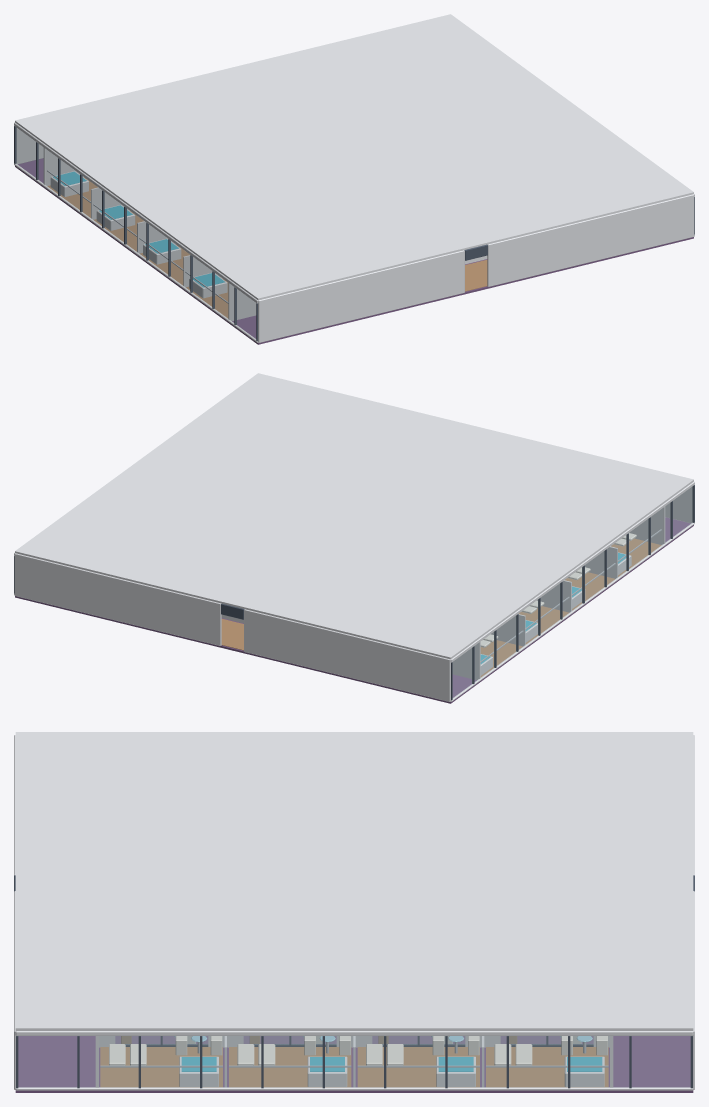
The model's file is cabin-deck-seven.glb.
3 renders of one model, top to bottom at view 1: azimuth 30°, elevation 25°; view 2: azimuth 150°, elevation 25°; view 3: azimuth 270°, elevation 25°, orthographic. The views are drawn at different scales.
Parts seen in each view (by area): view 1: CM_BULKHEAD, CM_GLASS_CLEAR, CM_WOOD, CM_CARPET, CM_TRIM, CM_WATER; view 2: CM_BULKHEAD, CM_GLASS_CLEAR, CM_WOOD, CM_CARPET, CM_TRIM, CM_CANVAS; view 3: CM_BULKHEAD, CM_GLASS_CLEAR, CM_CARPET, CM_WOOD, CM_CANVAS, CM_TRIM, CM_WATER, CM_STEEL.
Boxes of the visible parts, x1=… form: CM_BULKHEAD: x1=14, y1=14, x2=694, y2=342; CM_GLASS_CLEAR: x1=16, y1=128, x2=255, y2=339; CM_WOOD: x1=47, y1=177, x2=487, y2=318; CM_CARPET: x1=15, y1=158, x2=693, y2=344; CM_TRIM: x1=14, y1=126, x2=694, y2=341; CM_WATER: x1=53, y1=171, x2=224, y2=287; CM_BULKHEAD: x1=14, y1=373, x2=694, y2=701; CM_GLASS_CLEAR: x1=453, y1=487, x2=692, y2=697; CM_WOOD: x1=221, y1=538, x2=661, y2=677; CM_CARPET: x1=15, y1=517, x2=693, y2=703; CM_TRIM: x1=14, y1=485, x2=694, y2=700; CM_CANVAS: x1=480, y1=533, x2=636, y2=647; CM_BULKHEAD: x1=14, y1=732, x2=694, y2=1090; CM_GLASS_CLEAR: x1=18, y1=1036, x2=690, y2=1087; CM_CARPET: x1=15, y1=1036, x2=693, y2=1092; CM_WOOD: x1=100, y1=1036, x2=608, y2=1087; CM_CANVAS: x1=109, y1=1036, x2=607, y2=1065; CM_TRIM: x1=14, y1=875, x2=694, y2=1088; CM_WATER: x1=181, y1=1057, x2=602, y2=1071; CM_STEEL: x1=100, y1=1042, x2=608, y2=1067.
Bounding box in the file's own units: 30.14 × 3.04 × 29.14.
